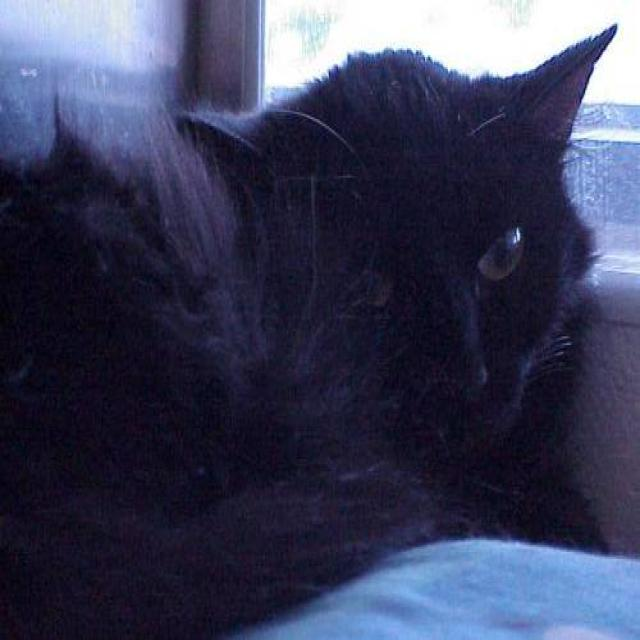cat: (0, 21, 618, 638)
